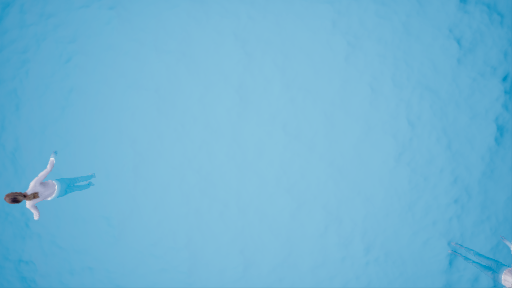person: (7, 153, 109, 221)
